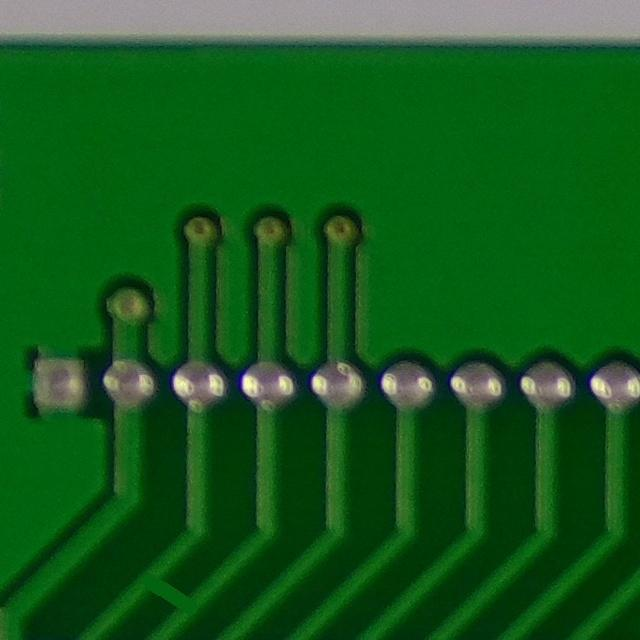short: (129, 561, 213, 638)
